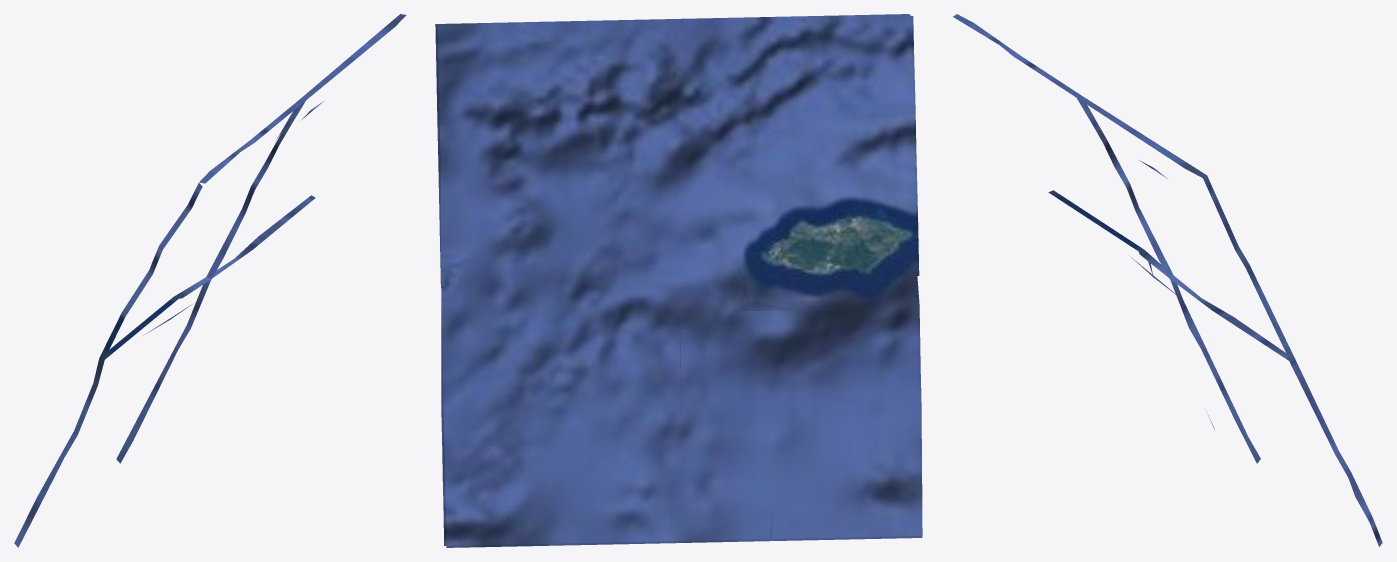
3 views of the same model, side by side, from view 1: azimuth 30°, elevation 25°; view 2: azimuth 150°, elevation 25°; view 3: azimuth 270°, elevation 25° (orthographic). The views are drawn at different scales.
Size of the model in its own units: 39384 by 36018 by 33671.
1 material, 1 textured.
